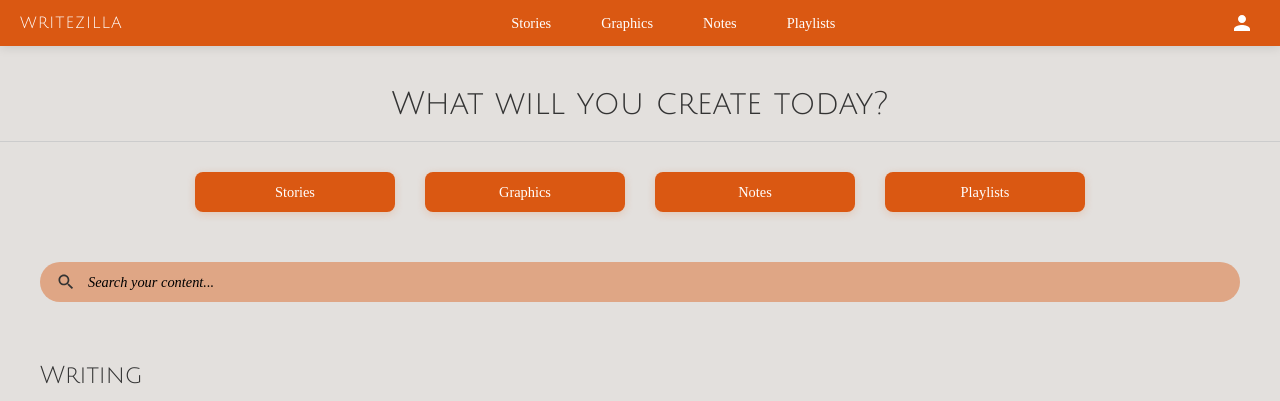
UserDashboard Component › Profile Menu Functionality › should show profile dropdown when profile icon is clicked
Click the button named "profile" at (1242, 23), box x1=1224 y1=5 x2=1260 y2=41
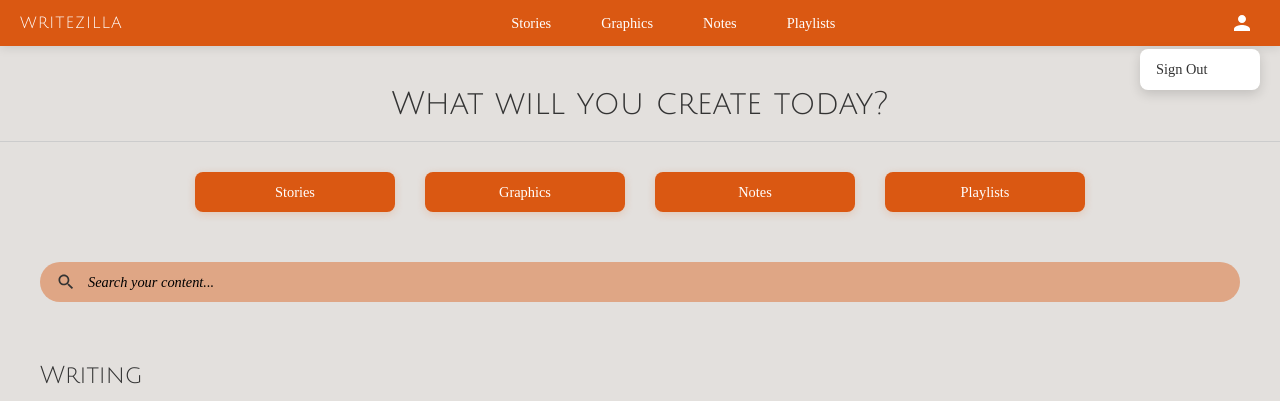
Expected: the button "Sign Out" is shown, x1=1140 y1=49 x2=1260 y2=90
